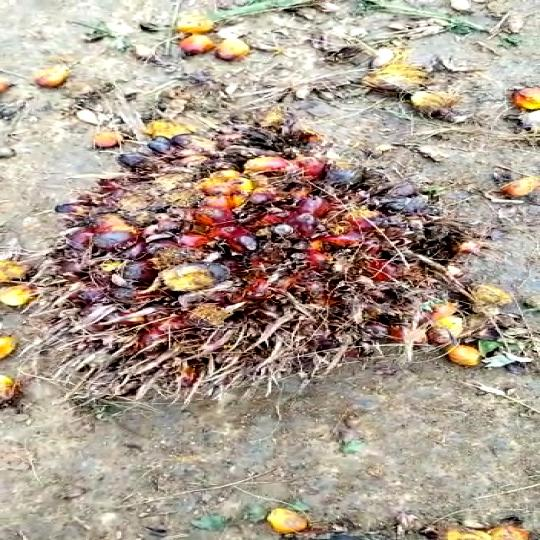terlalu masak: (22, 103, 473, 406)
